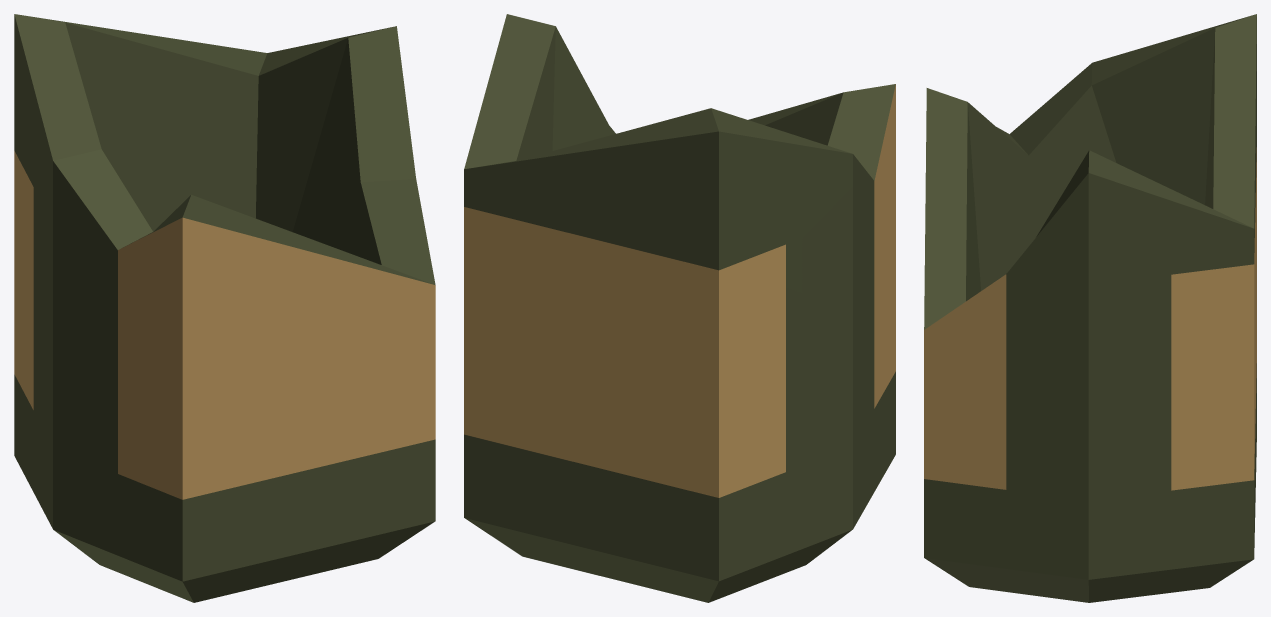
File: SM_Item_Alcohol_Broken_03.obj
3 renders of one model, left to right at view 1: azimuth 30°, elevation 25°; view 2: azimuth 150°, elevation 25°; view 3: azimuth 270°, elevation 25°, orthographic. The views are drawn at different scales.
Parts seen in each view (by area): view 1: SM_Item_Alcohol_Broken_03_0; view 2: SM_Item_Alcohol_Broken_03_0; view 3: SM_Item_Alcohol_Broken_03_0.
Boxes of the visible parts, x1=… form: SM_Item_Alcohol_Broken_03_0: x1=14, y1=14, x2=435, y2=602; SM_Item_Alcohol_Broken_03_0: x1=464, y1=14, x2=895, y2=602; SM_Item_Alcohol_Broken_03_0: x1=924, y1=14, x2=1256, y2=602.
Bounding box in the file's own units: 0.1348 × 0.184 × 0.1176.
Materials: 1 (1 with a texture image).
